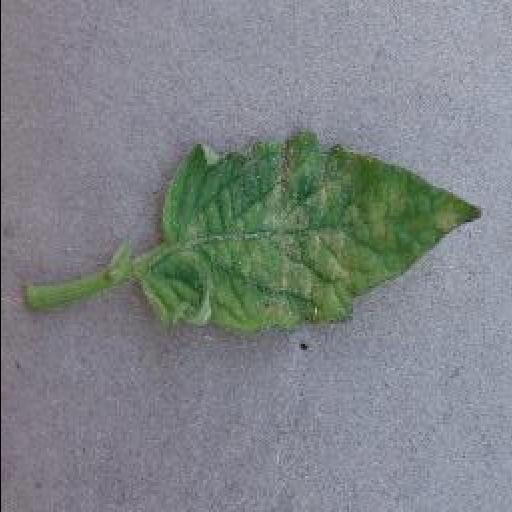disease_tomato: (134, 124, 484, 334)
